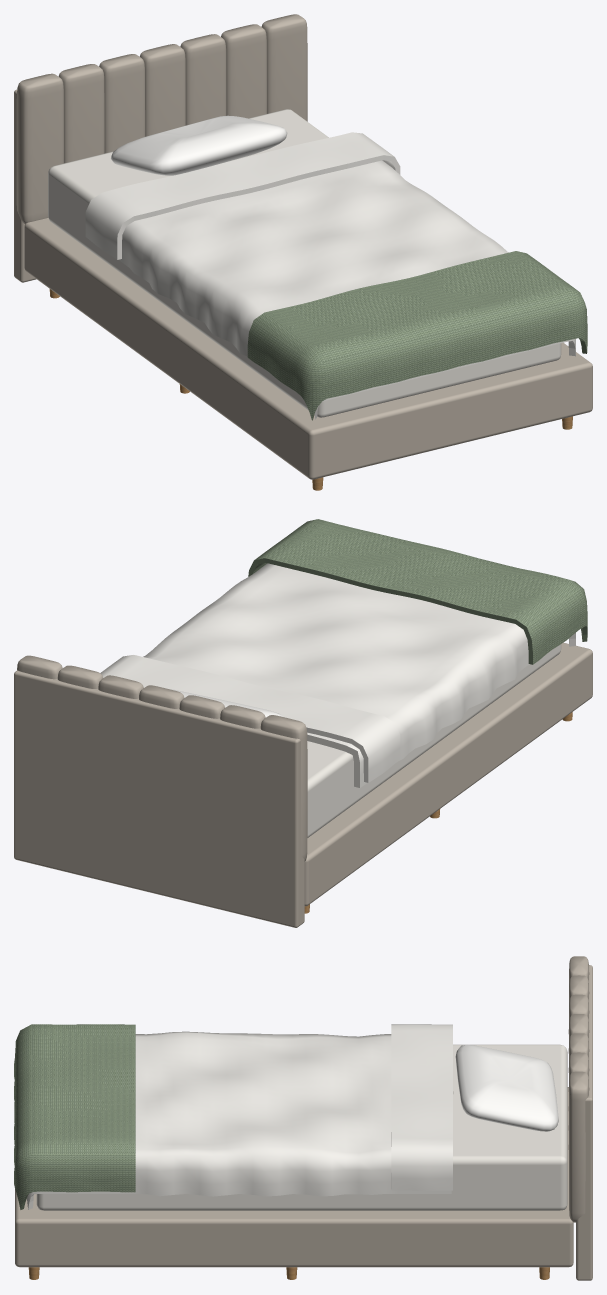
File: bed_single_2.glb
The picture shows the model from 3 angles, top to bottom: view 1: azimuth 30°, elevation 25°; view 2: azimuth 150°, elevation 25°; view 3: azimuth 270°, elevation 25°; orthographic projection. The views are drawn at different scales.
Visible parts, largest first — view 1: bed_single_2_duvet, bed_single_2_frame, bed_single_2_throw, bed_single_2_headboard_channels, bed_single_2_mattress, bed_single_2_duvet_fold, bed_single_2_pillow, bed_single_2_headboard; view 2: bed_single_2_headboard, bed_single_2_duvet, bed_single_2_frame, bed_single_2_throw, bed_single_2_duvet_fold, bed_single_2_headboard_channels, bed_single_2_mattress; view 3: bed_single_2_duvet, bed_single_2_frame, bed_single_2_throw, bed_single_2_mattress, bed_single_2_duvet_fold, bed_single_2_pillow, bed_single_2_headboard_channels, bed_single_2_headboard.
Part boxes in pixels (left/top/right/bottom): bed_single_2_duvet: left=118, top=160, right=575, bottom=419; bed_single_2_frame: left=24, top=218, right=592, bottom=479; bed_single_2_throw: left=247, top=251, right=587, bottom=420; bed_single_2_headboard_channels: left=16, top=14, right=307, bottom=223; bed_single_2_mattress: left=48, top=109, right=561, bottom=417; bed_single_2_duvet_fold: left=85, top=132, right=400, bottom=259; bed_single_2_pillow: left=111, top=115, right=287, bottom=175; bed_single_2_headboard: left=14, top=89, right=36, bottom=282; bed_single_2_headboard: left=14, top=670, right=304, bottom=927; bed_single_2_duvet: left=143, top=563, right=575, bottom=787; bed_single_2_frame: left=304, top=642, right=592, bottom=906; bed_single_2_throw: left=248, top=519, right=587, bottom=664; bed_single_2_duvet_fold: left=100, top=655, right=400, bottom=782; bed_single_2_headboard_channels: left=17, top=655, right=307, bottom=861; bed_single_2_mattress: left=307, top=644, right=561, bottom=837; bed_single_2_duvet: left=27, top=1031, right=451, bottom=1209; bed_single_2_frame: left=15, top=1087, right=573, bottom=1267; bed_single_2_throw: left=14, top=1024, right=135, bottom=1209; bed_single_2_mattress: left=36, top=1044, right=567, bottom=1210; bed_single_2_duvet_fold: left=391, top=1024, right=453, bottom=1190; bed_single_2_pillow: left=455, top=1045, right=558, bottom=1131; bed_single_2_headboard_channels: left=568, top=956, right=589, bottom=1222; bed_single_2_headboard: left=576, top=965, right=592, bottom=1280.
Size of the model in its own units: 1.33 by 0.9 by 2.4.
Materials: 6 (2 with a texture image).
